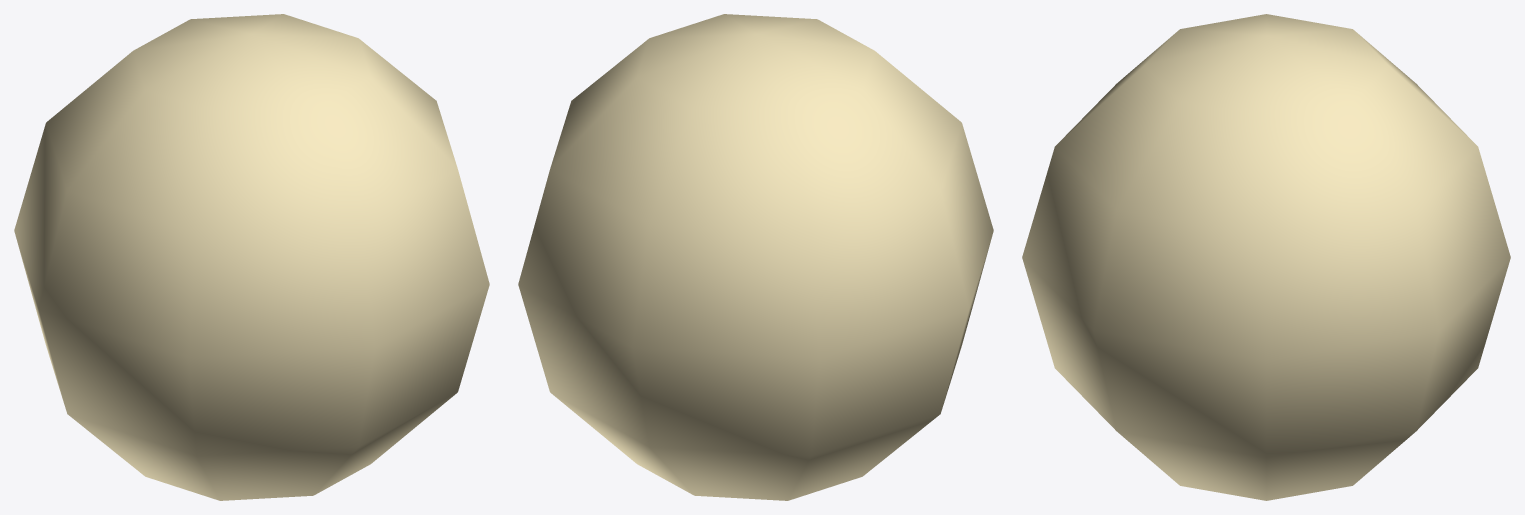
The model's file is pepa-zapallo.glb.
3 views of the same model, side by side, from view 1: azimuth 30°, elevation 25°; view 2: azimuth 150°, elevation 25°; view 3: azimuth 270°, elevation 25° (orthographic).
Parts seen in each view (by area): view 1: pepa; view 2: pepa; view 3: pepa.
Boxes of the visible parts, x1=… form: pepa: x1=14, y1=14, x2=489, y2=500; pepa: x1=518, y1=14, x2=993, y2=500; pepa: x1=1022, y1=14, x2=1510, y2=500.
Bounding box in the file's own units: 0.07 × 0.07 × 0.07.
